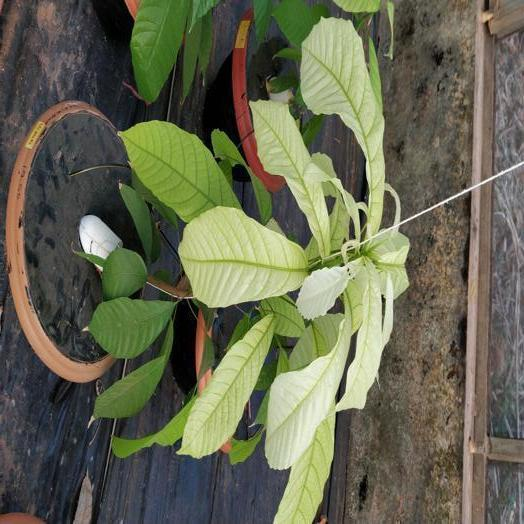Healthy Leaf: (95, 322, 171, 417), (88, 297, 175, 357), (112, 396, 195, 457), (120, 184, 152, 262), (103, 248, 145, 299), (197, 335, 214, 378)
Iron: (300, 18, 383, 232), (179, 315, 274, 457), (179, 207, 307, 306), (266, 317, 349, 468), (251, 101, 330, 255), (120, 121, 239, 221), (337, 262, 384, 410), (273, 408, 333, 523), (296, 258, 363, 319), (289, 314, 342, 370), (366, 231, 408, 297), (330, 187, 360, 251), (260, 295, 304, 337), (344, 269, 366, 333), (382, 277, 393, 349)
